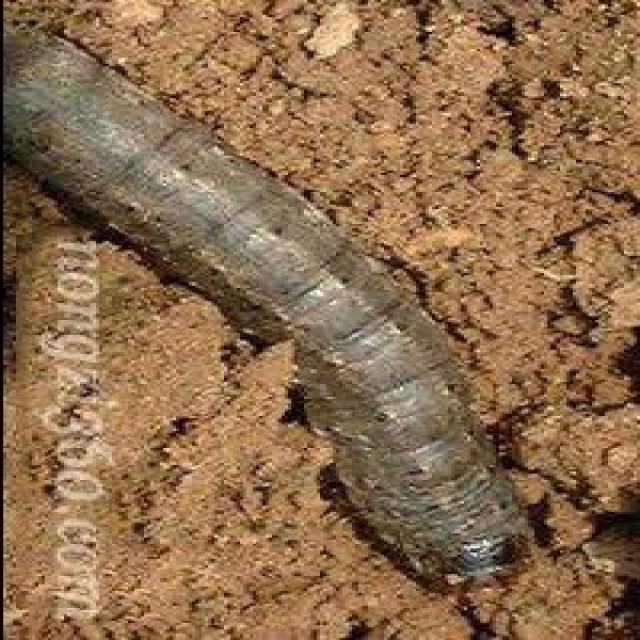black cutworm: (3, 48, 544, 607)
